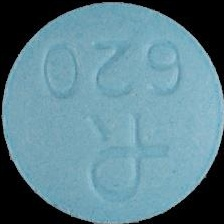0615-5550: (0, 0, 224, 224)
